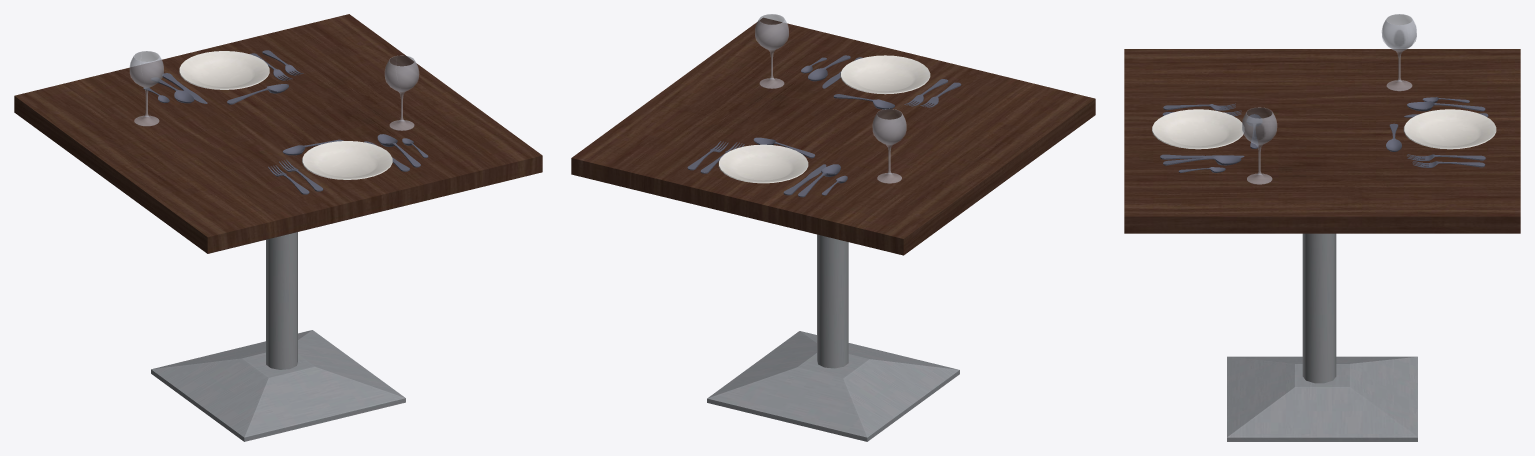
The model's file is SM_Table_Setup_Example.glb.
3 views of the same model, side by side, from view 1: azimuth 30°, elevation 25°; view 2: azimuth 150°, elevation 25°; view 3: azimuth 270°, elevation 25° (orthographic). The views are drawn at different scales.
Visible parts, largest first — view 1: SM_Table_Setup_Example; view 2: SM_Table_Setup_Example; view 3: SM_Table_Setup_Example.
Boxes of the visible parts, x1=… form: SM_Table_Setup_Example: x1=14, y1=14, x2=542, y2=441; SM_Table_Setup_Example: x1=571, y1=14, x2=1095, y2=441; SM_Table_Setup_Example: x1=1124, y1=14, x2=1520, y2=441.
Bounding box in the file's own units: 1.13 × 1.05 × 1.13.
Materials: 5 (4 with a texture image).
